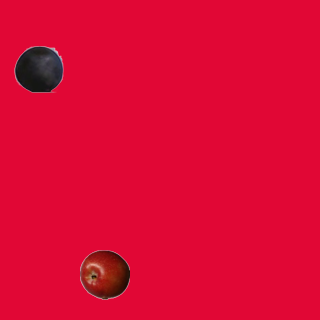Apple Braeburn: (79, 249, 129, 299)
Grape Blue: (13, 43, 63, 93)
